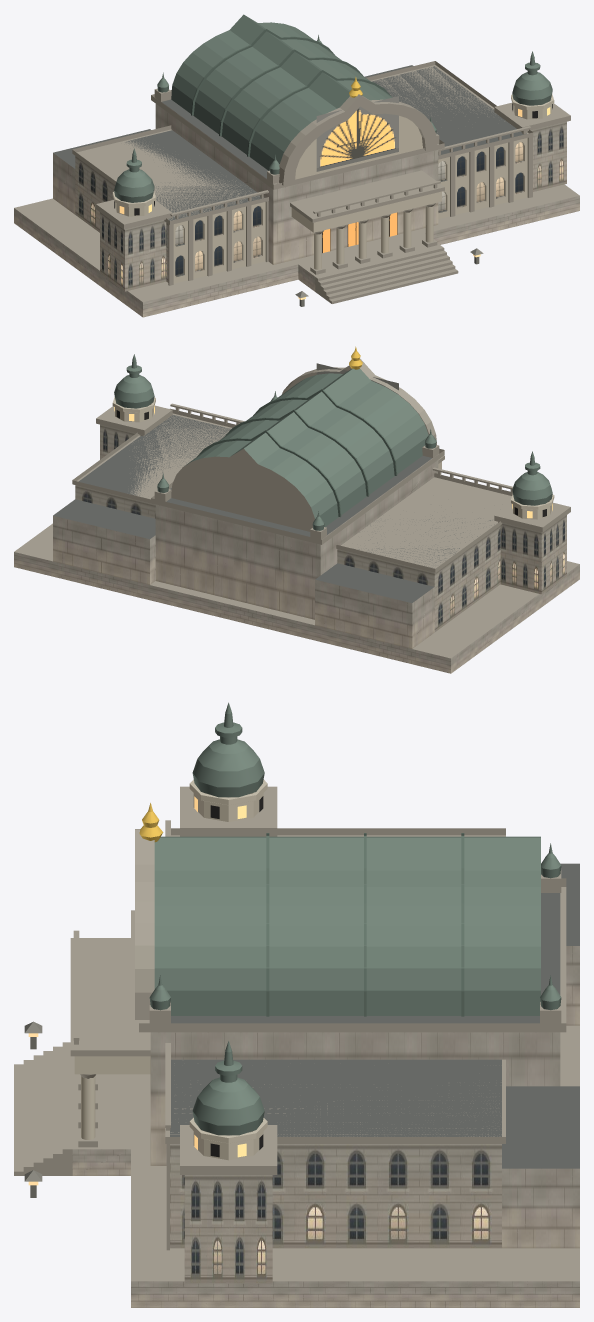
Rendered from tsukiji_honganji.glb.
The picture shows the model from 3 angles, top to bottom: view 1: azimuth 30°, elevation 25°; view 2: azimuth 150°, elevation 25°; view 3: azimuth 270°, elevation 25°; orthographic projection. The views are drawn at different scales.
Parts seen in each view (by area): view 1: tsukiji_honganji; view 2: tsukiji_honganji; view 3: tsukiji_honganji.
Boxes of the visible parts, x1,y1,x2,y2 form: tsukiji_honganji: (14, 14, 579, 317); tsukiji_honganji: (14, 346, 579, 673); tsukiji_honganji: (14, 702, 579, 1307).
Size of the model in its own units: 92 by 36.2 by 58.
Materials: 2 (2 with a texture image).
